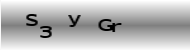3: (38, 25, 52, 38)
G: (97, 18, 112, 31)
S: (24, 13, 39, 26)
r: (111, 21, 122, 32)
y: (67, 13, 81, 27)
